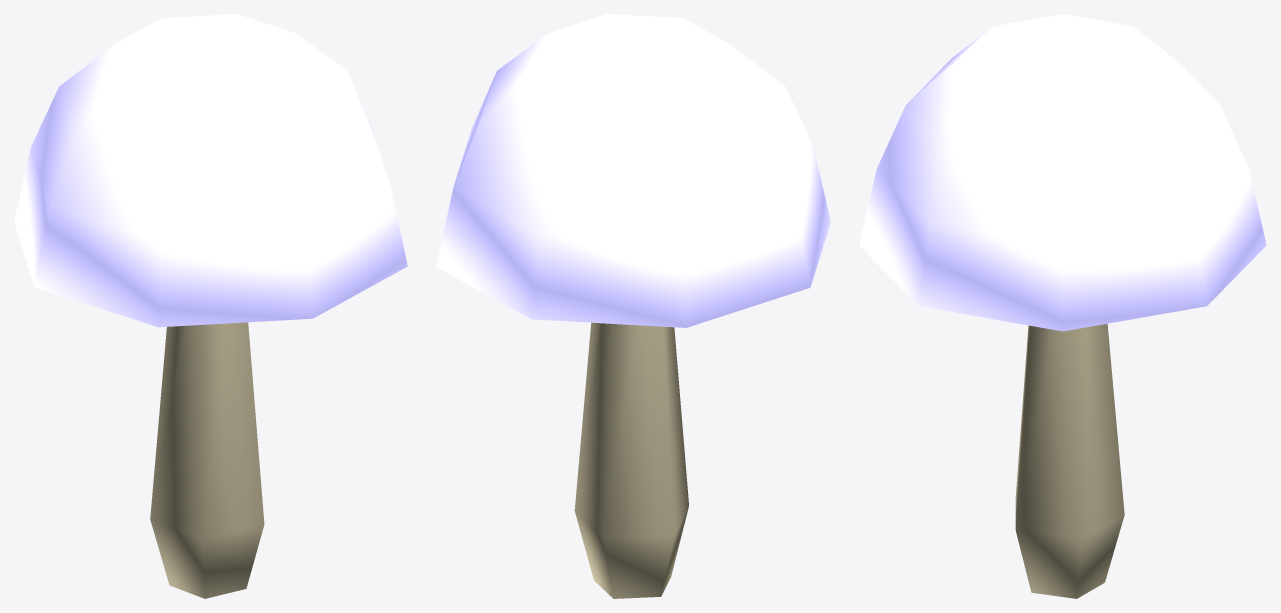
Rendered from mushroomPurple.glb.
3 views of the same model, side by side, from view 1: azimuth 30°, elevation 25°; view 2: azimuth 150°, elevation 25°; view 3: azimuth 270°, elevation 25° (orthographic).
Visible parts, largest first — view 1: MushroomLightPurple; view 2: MushroomLightPurple; view 3: MushroomLightPurple.
Boxes of the visible parts, x1,y1,x2,y2 form: MushroomLightPurple: (14, 14, 407, 598); MushroomLightPurple: (436, 14, 830, 598); MushroomLightPurple: (859, 14, 1266, 598).
Size of the model in its own units: 0.3421 by 0.4886 by 0.3421.
2 materials, 1 textured.
